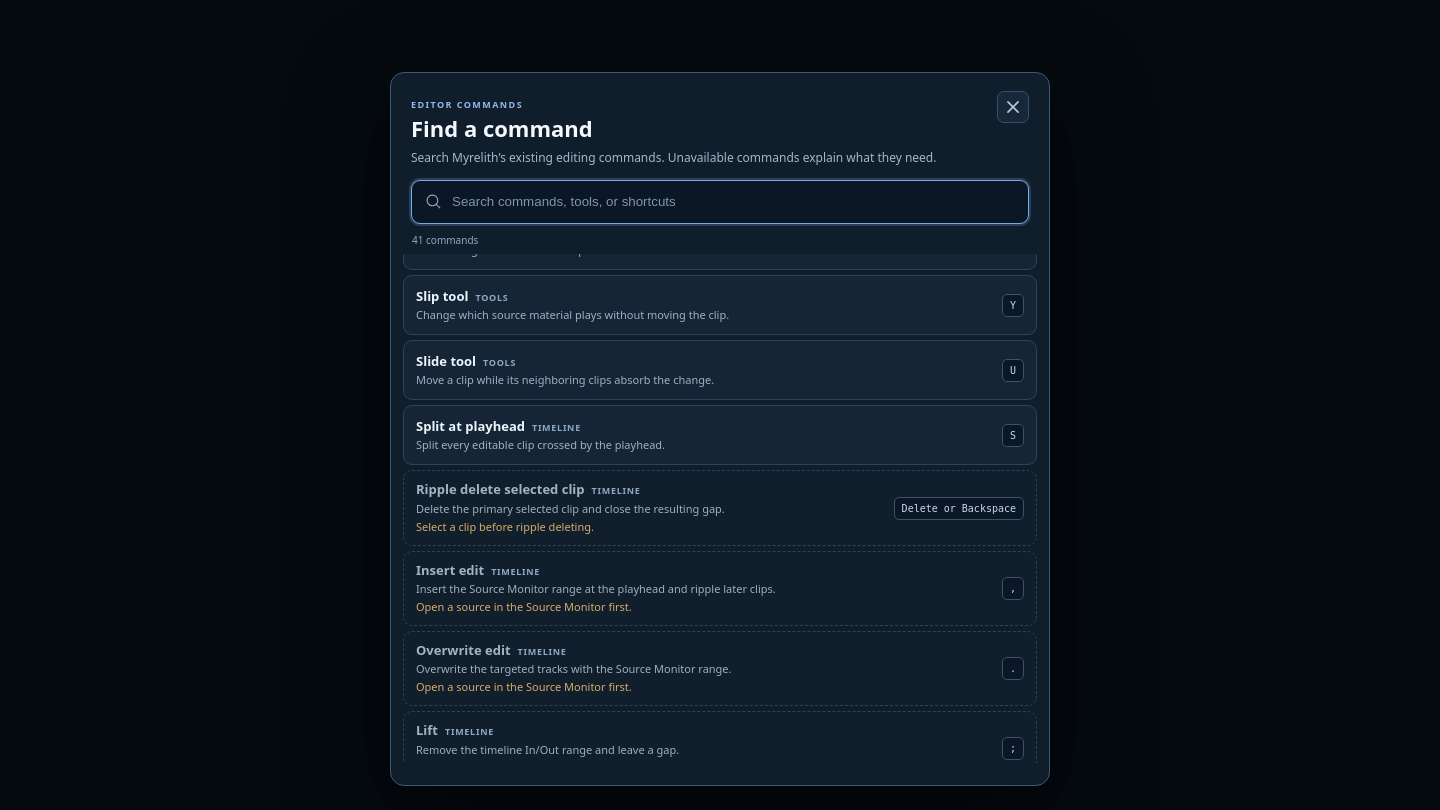
Scenario: EditorCommandPalette › keeps disabled commands focusable and announces the live reason
(page scrolled)
Click the button "Ripple delete selected clip": (720,508) [403,470,1037,546]
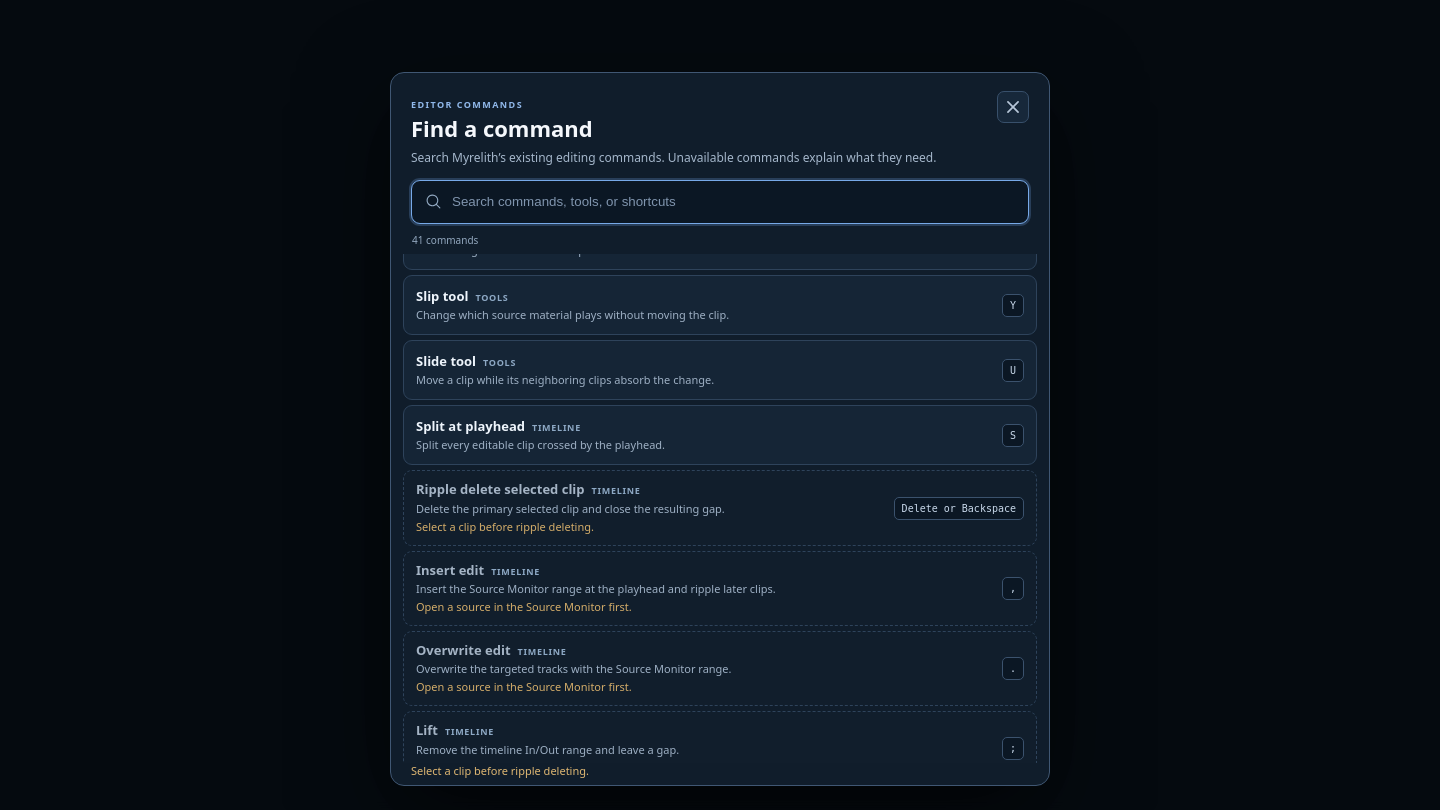
Check: the message reads "Select a clip before ripple deleting.", box [411,763,589,778]
